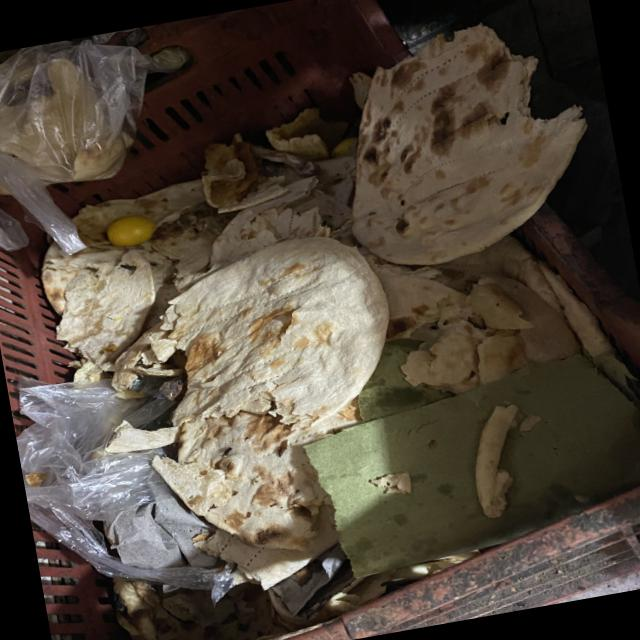paper: (330, 19, 604, 273), (147, 247, 400, 440), (36, 212, 148, 366), (98, 206, 156, 256)
